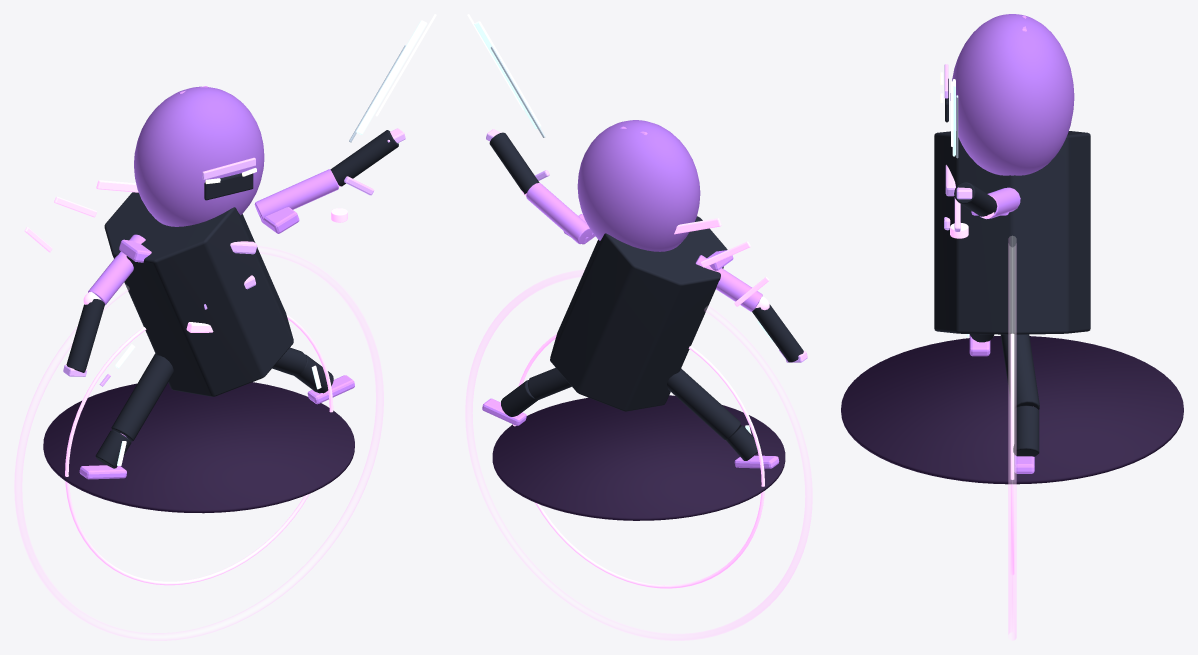
The model's file is blade_ninja.glb.
The picture shows the model from 3 angles, left to right: view 1: azimuth 30°, elevation 25°; view 2: azimuth 150°, elevation 25°; view 3: azimuth 270°, elevation 25°; orthographic projection. The views are drawn at different scales.
Parts seen in each view (by area): view 1: BLADE_PlatformShadow, BLADE_Body, BLADE_Hood, BLADE_Aura, BLADE_Aura_Inner, BLADE_LeftThigh, BLADE_RightUpperArm, BLADE_LeftLowerArm, BLADE_RightLowerArm, BLADE_LeftUpperArm, BLADE_SwordBlade, BLADE_Mask (+5 smaller); view 2: BLADE_PlatformShadow, BLADE_Body, BLADE_Hood, BLADE_Aura, BLADE_Aura_Inner, BLADE_LeftThigh, BLADE_RightUpperArm, BLADE_RightLowerArm, BLADE_LeftLowerArm, BLADE_LeftUpperArm, BLADE_RightThigh, BLADE_RightShin (+3 smaller); view 3: BLADE_PlatformShadow, BLADE_Body, BLADE_Hood, BLADE_Aura, BLADE_RightThigh, BLADE_RightShin, BLADE_Aura_Inner, BLADE_RightLowerArm, BLADE_RightUpperArm.
Part boxes in pixels (box(x1,y1,x2,y2)): BLADE_PlatformShadow: box(43, 382, 354, 513); BLADE_Body: box(104, 192, 293, 396); BLADE_Hood: box(134, 86, 264, 226); BLADE_Aura: box(14, 246, 383, 640); BLADE_Aura_Inner: box(65, 314, 333, 585); BLADE_LeftThigh: box(111, 353, 173, 441); BLADE_RightUpperArm: box(254, 169, 338, 221); BLADE_LeftLowerArm: box(66, 299, 104, 372); BLADE_RightLowerArm: box(330, 130, 398, 186); BLADE_LeftUpperArm: box(88, 234, 145, 305); BLADE_SwordBlade: box(356, 20, 427, 134); BLADE_Mask: box(204, 173, 253, 200); BLADE_PlatformShadow: box(492, 395, 785, 520); BLADE_Body: box(550, 216, 727, 411); BLADE_Hood: box(577, 120, 700, 251); BLADE_Aura: box(465, 269, 812, 640); BLADE_Aura_Inner: box(513, 334, 764, 588); BLADE_LeftThigh: box(667, 368, 740, 439); BLADE_RightUpperArm: box(526, 183, 592, 244); BLADE_RightLowerArm: box(489, 132, 539, 194); BLADE_LeftLowerArm: box(752, 304, 803, 362); BLADE_LeftUpperArm: box(695, 255, 762, 311); BLADE_RightThigh: box(528, 367, 571, 399); BLADE_RightShin: box(501, 380, 537, 416); BLADE_PlatformShadow: box(841, 336, 1183, 484); BLADE_Body: box(934, 131, 1090, 334); BLADE_Hood: box(950, 14, 1074, 175); BLADE_Aura: box(1008, 236, 1016, 640); BLADE_RightThigh: box(1000, 334, 1039, 409); BLADE_RightShin: box(1013, 405, 1039, 456); BLADE_Aura_Inner: box(1010, 333, 1014, 575); BLADE_RightLowerArm: box(954, 182, 997, 216); BLADE_RightUpperArm: box(980, 187, 1020, 219).
Size of the model in its own units: 2.92 by 4.18 by 2.
